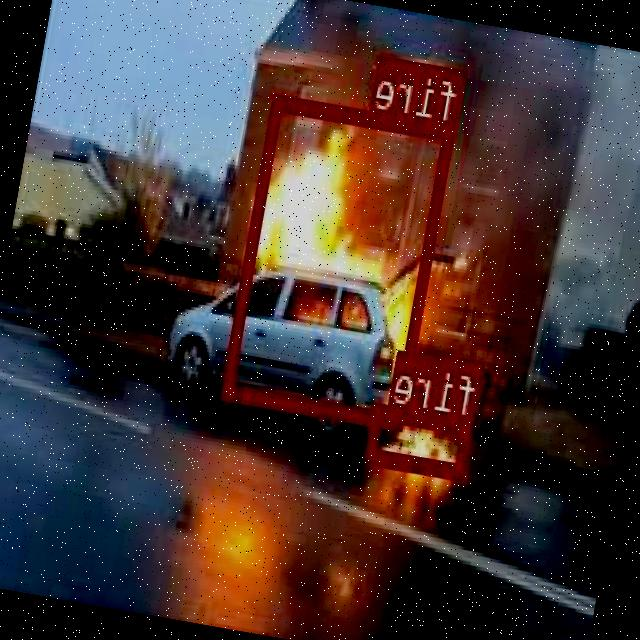fire: (223, 93, 456, 426), (366, 402, 475, 478)
